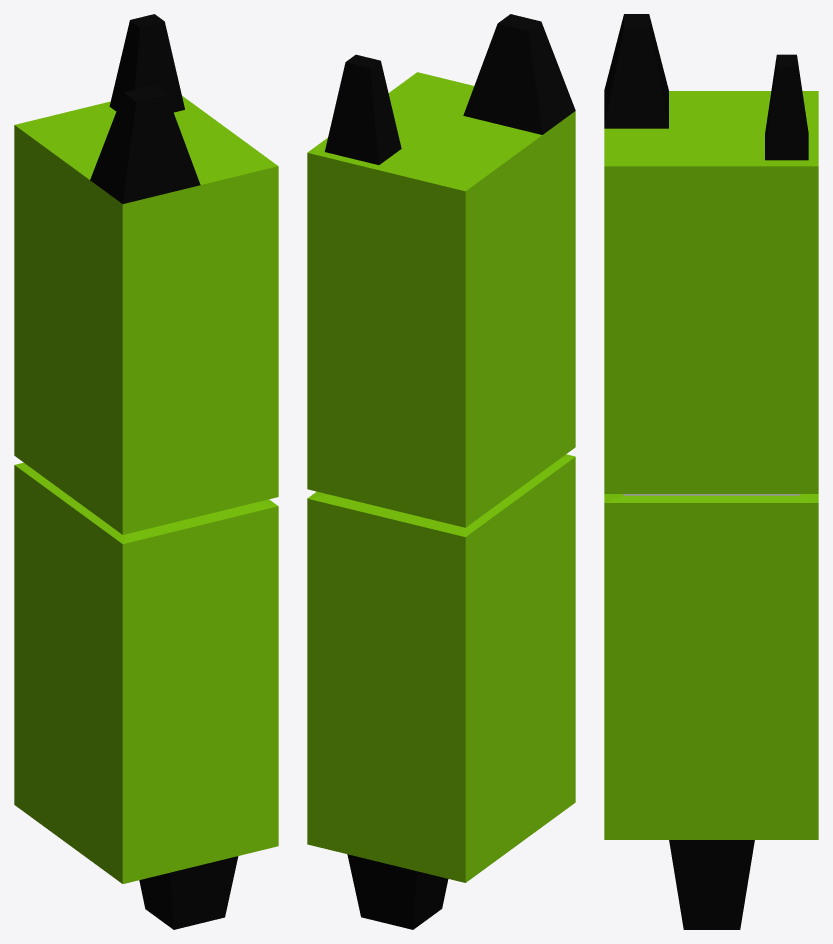
Rendered from Fusible_5.fbx.
3 renders of one model, left to right at view 1: azimuth 30°, elevation 25°; view 2: azimuth 150°, elevation 25°; view 3: azimuth 270°, elevation 25°, orthographic. The views are drawn at different scales.
Parts seen in each view (by area): view 1: Fusible.004; view 2: Fusible.004; view 3: Fusible.004.
Part boxes in pixels (x1=…): Fusible.004: x1=14, y1=14, x2=278, y2=929; Fusible.004: x1=307, y1=14, x2=575, y2=929; Fusible.004: x1=604, y1=14, x2=818, y2=929.
Bounding box in the file's own units: 47.93 × 255 × 57.74.
